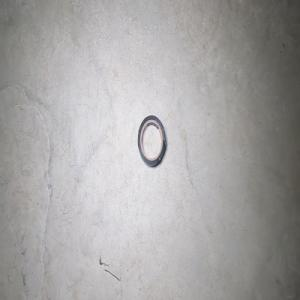Tape: (137, 115, 166, 166)
